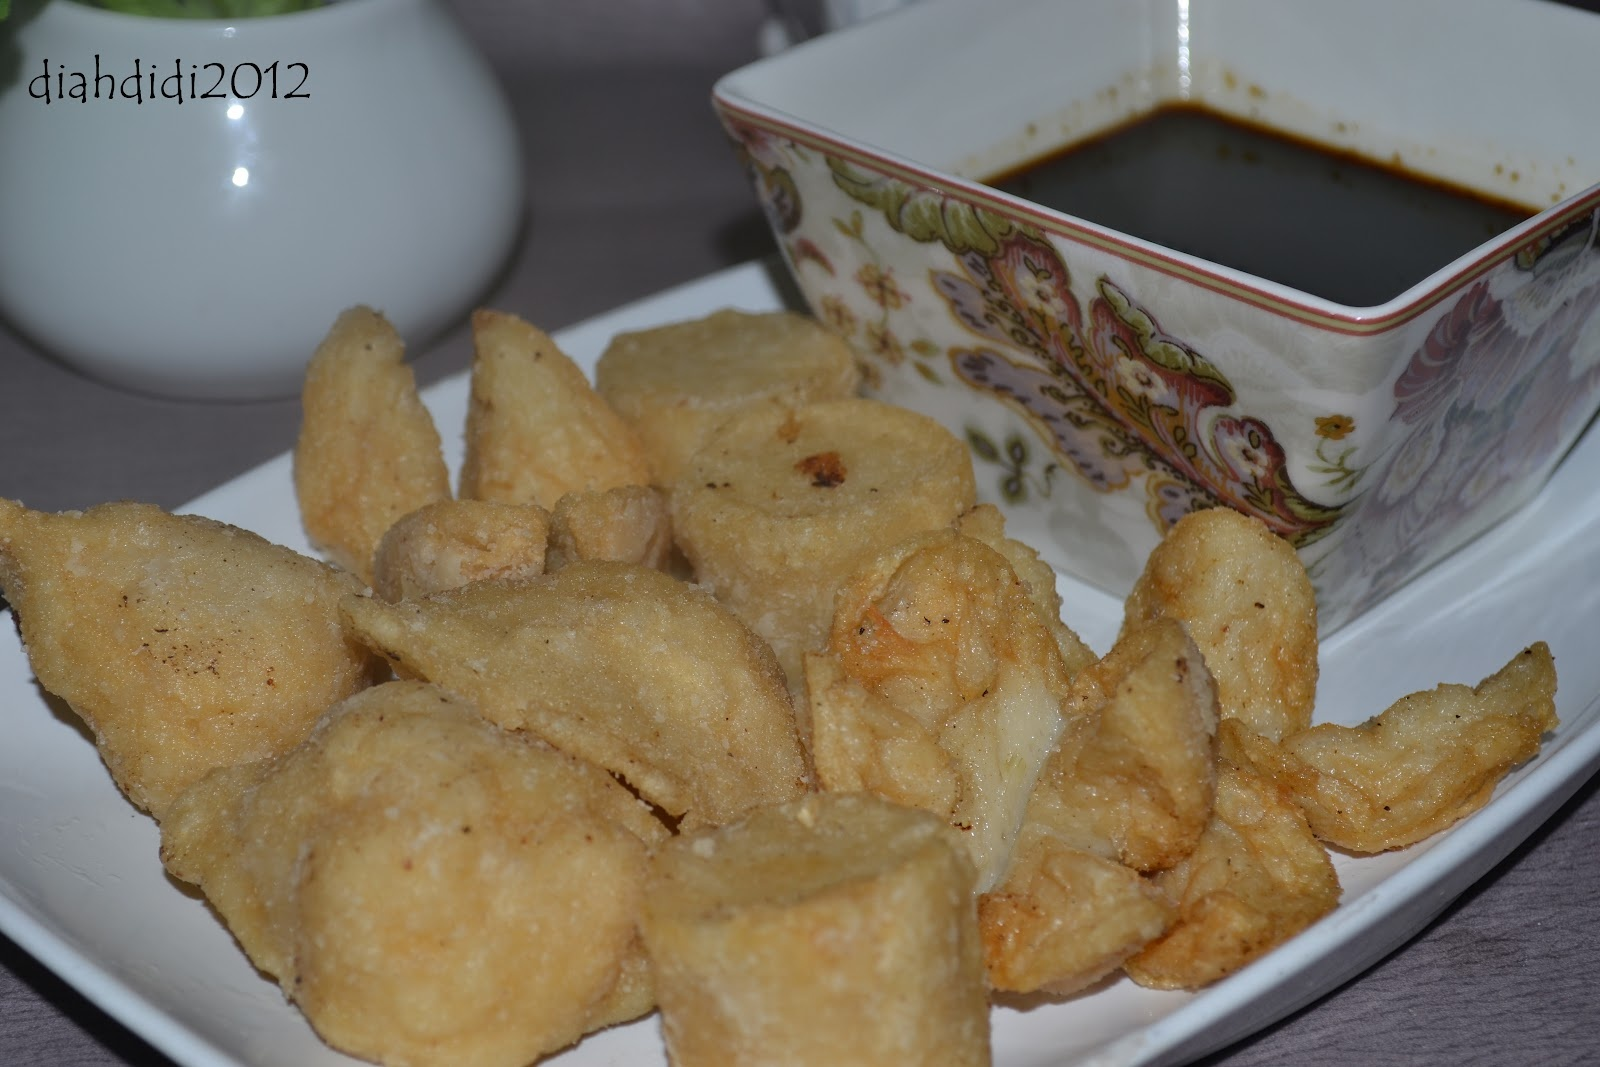pempek: (4, 302, 1560, 1063)
